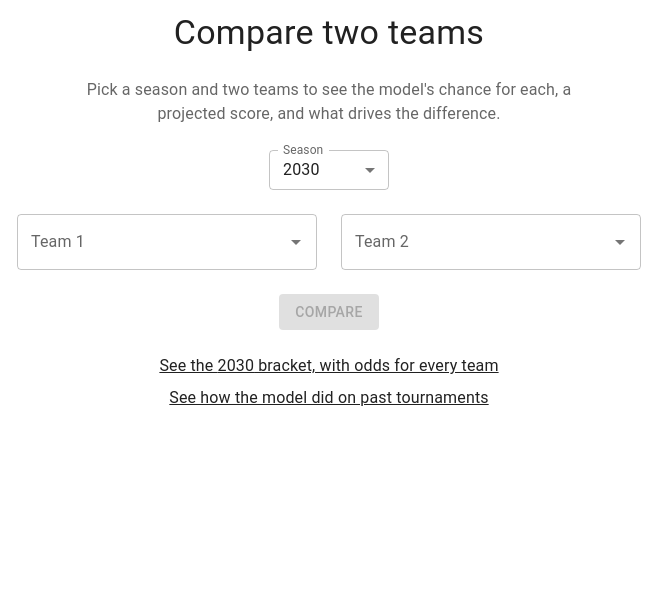
Test: team picker › offers the teams of the chosen season and opens the comparison
Expected: the button "Compare" is disabled, [279,294,379,330]
Click the dropdown labelled "Team 1": (152, 242) [26,223,278,261]
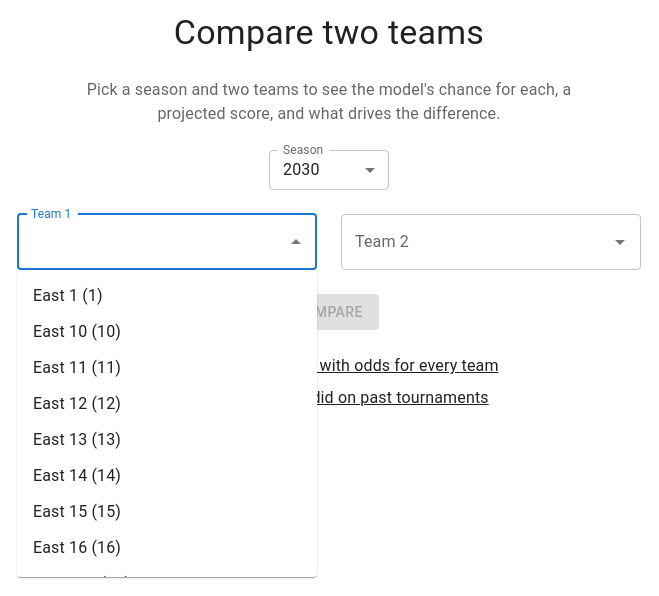
Click the option "East 1 (1)": (68, 296) [33,286,103,305]
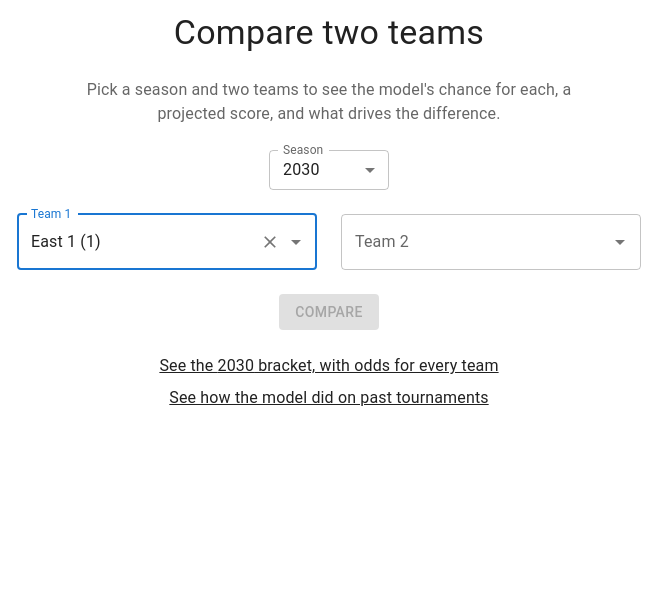
Click the dropdown labelled "Team 2": (476, 242) [350,223,602,261]
(page scrolled)
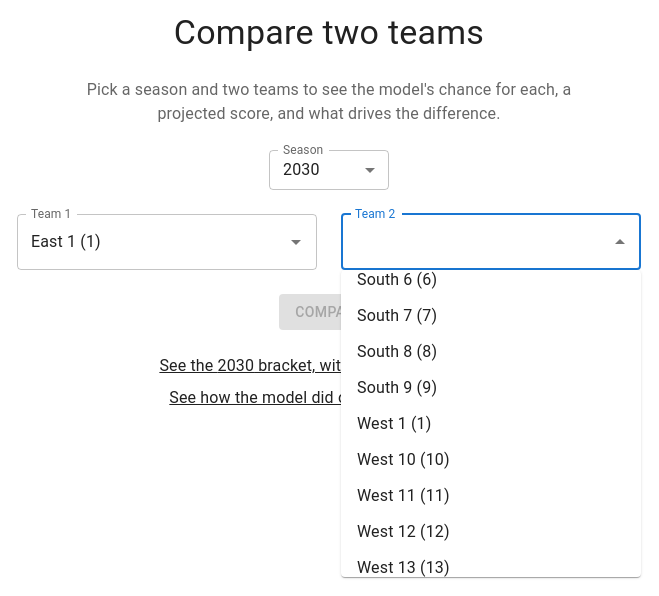
Click the option "West 1 (1)": (394, 424) [357,414,431,433]
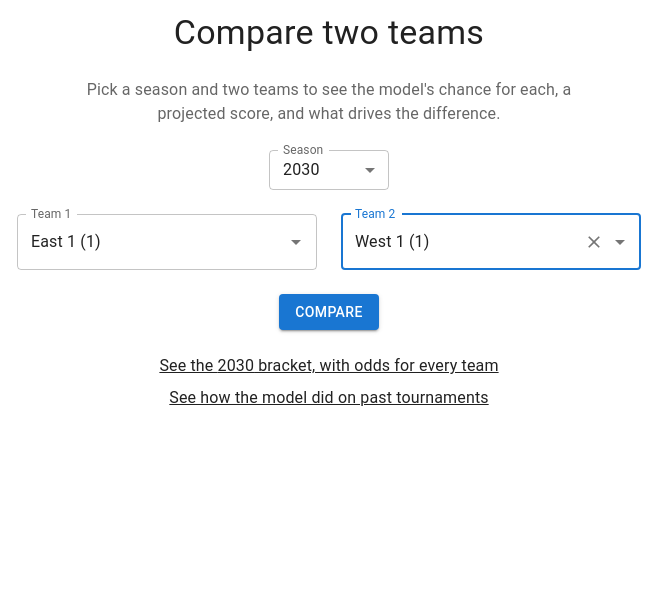
Expected: the button "Compare" is enabled, [279,294,379,330]
